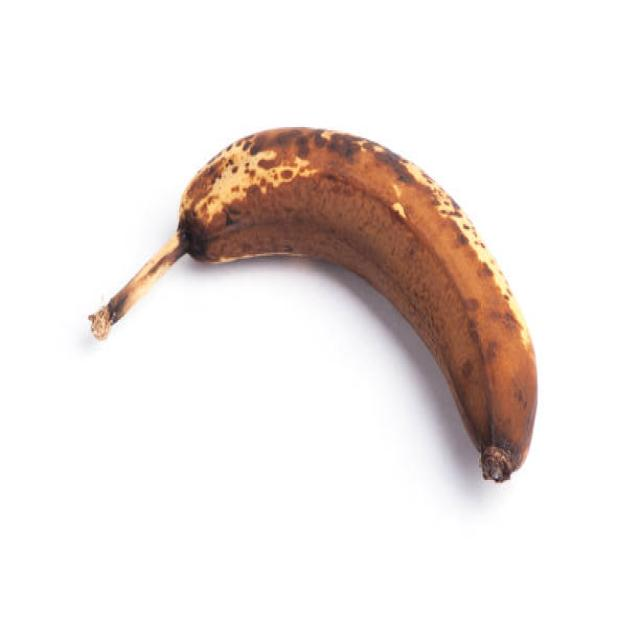overripe: (85, 120, 541, 490)
